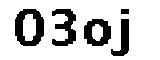0: (9, 6, 47, 49)
3: (50, 6, 78, 50)
j: (112, 7, 140, 60)
o: (83, 19, 113, 47)
